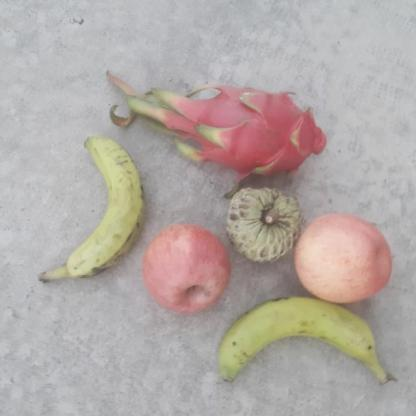annona: (226, 184, 310, 266)
apple: (296, 210, 396, 305), (142, 222, 233, 315)
banana: (27, 132, 146, 290), (215, 294, 395, 386)
pitaya: (181, 83, 329, 180)
